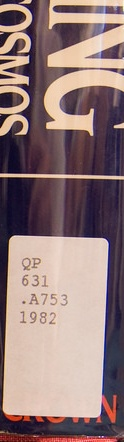call_number: (8, 233, 108, 421)
